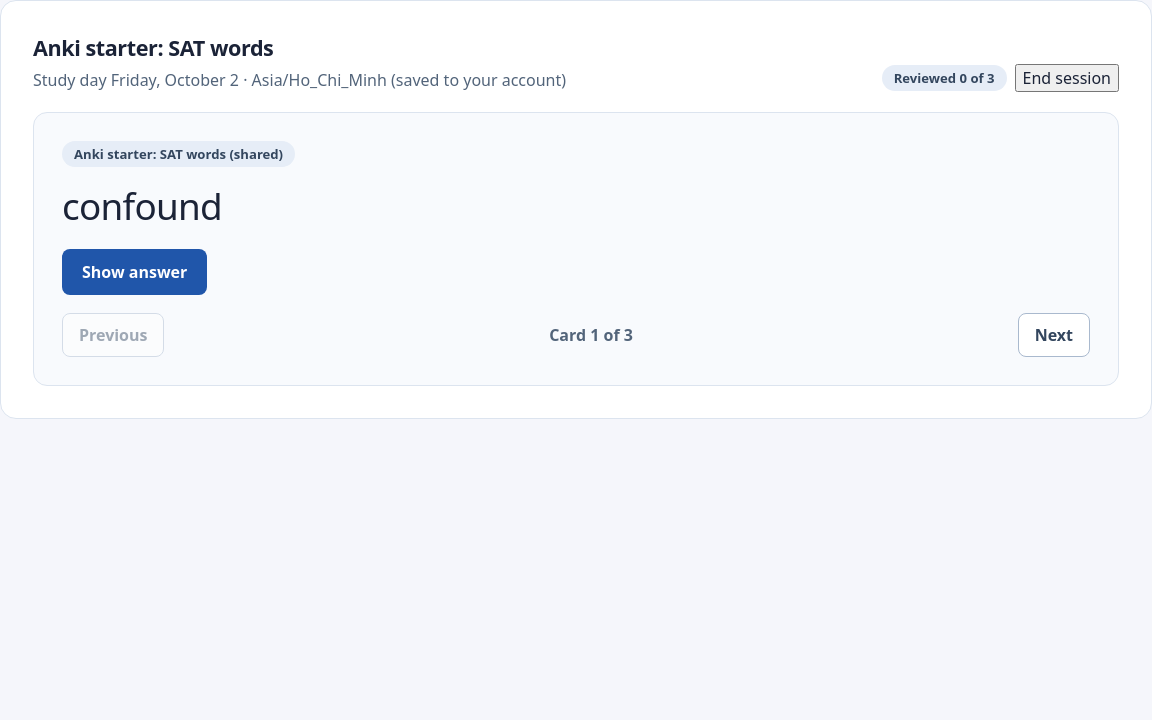
reveals the back before rating, and previous/next navigation never sends a rating
This screenshot has width=1152, height=720.
Expected: the text "confound" is shown, [62, 181, 222, 231]
Expected: the text "Card 1 of 3" is shown, [549, 324, 633, 346]
What coordinates should you click on to do the following:
click the button "Next"
I would click on:
 (1054, 335)
Its box is [1018, 313, 1090, 357].
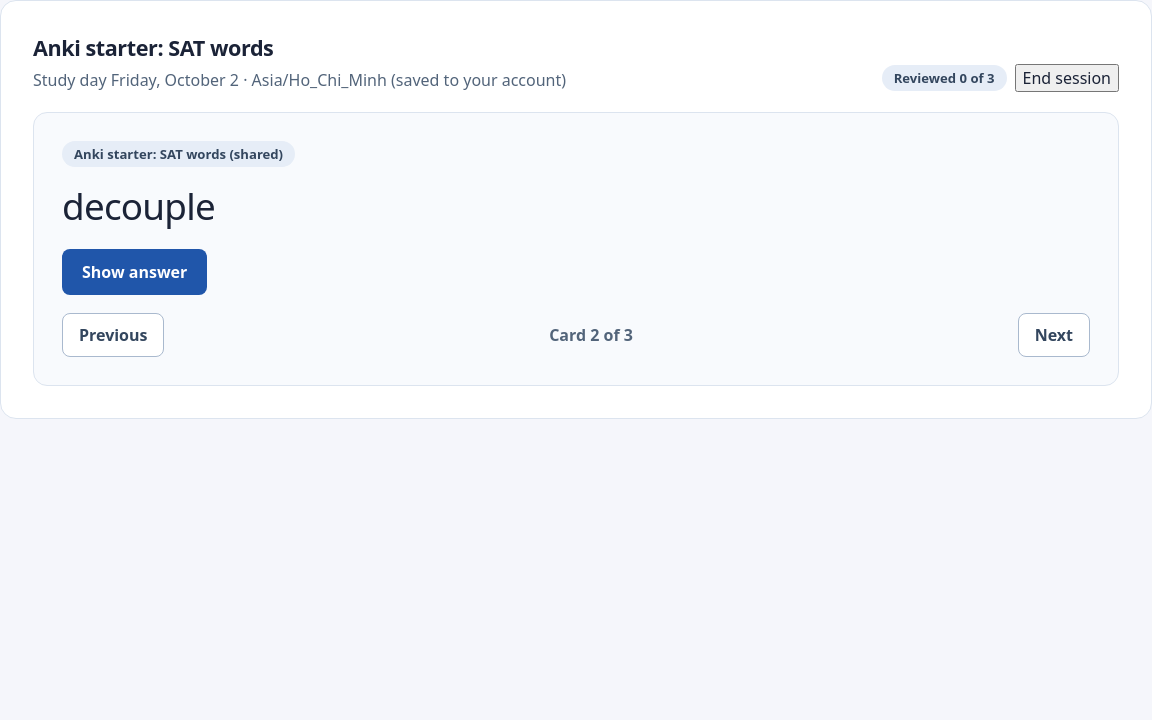
Now the text "decouple" is shown, box [62, 181, 215, 231]
What coordinates should you click on to do the following:
click the button "Previous"
I would click on:
 (113, 335)
Its box is [62, 313, 164, 357].
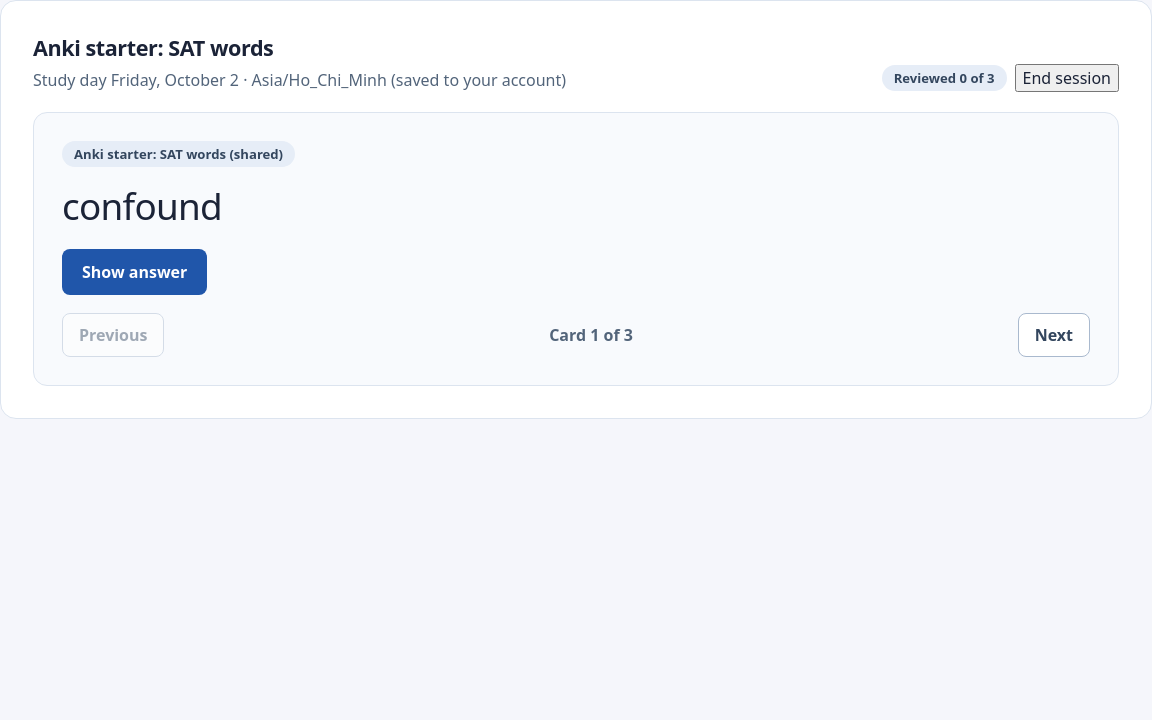
Now the text "confound" is shown, box [62, 181, 222, 231]
What coordinates should you click on to do the following:
click the button "Show answer"
I would click on:
 (135, 272)
Its box is [62, 249, 207, 295].
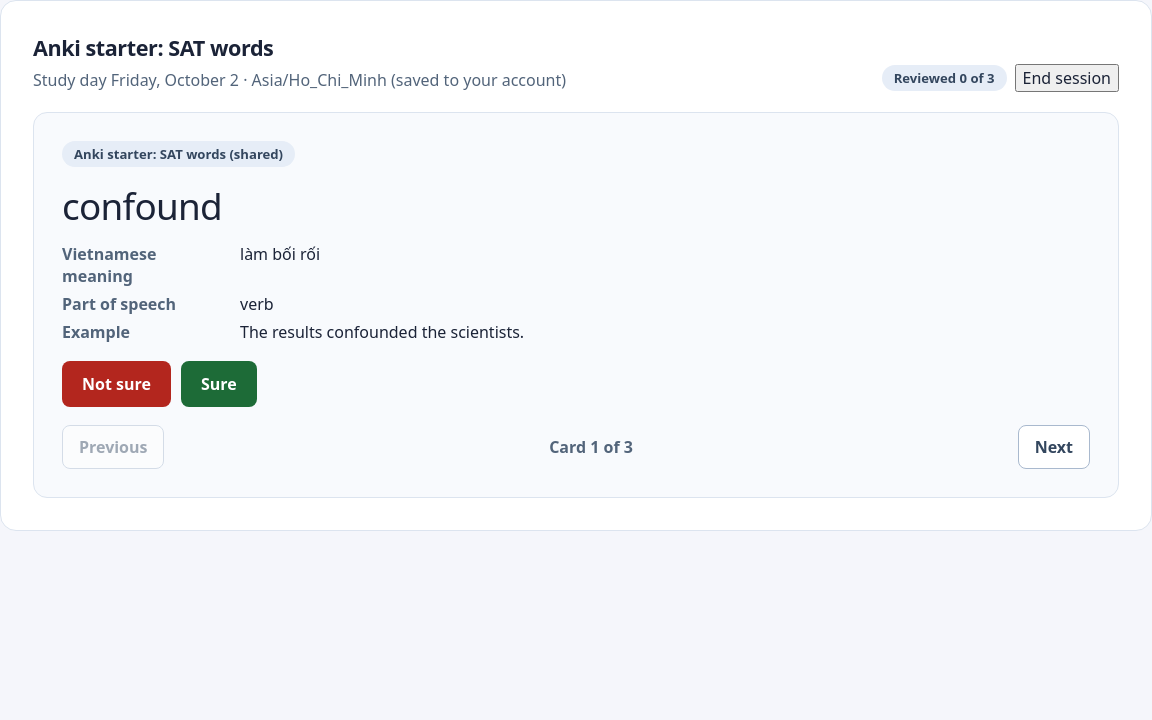
Now the text "làm bối rối" is shown, box [240, 243, 320, 265]
Now the text "The results confounded the scientists." is shown, box [240, 321, 524, 343]
